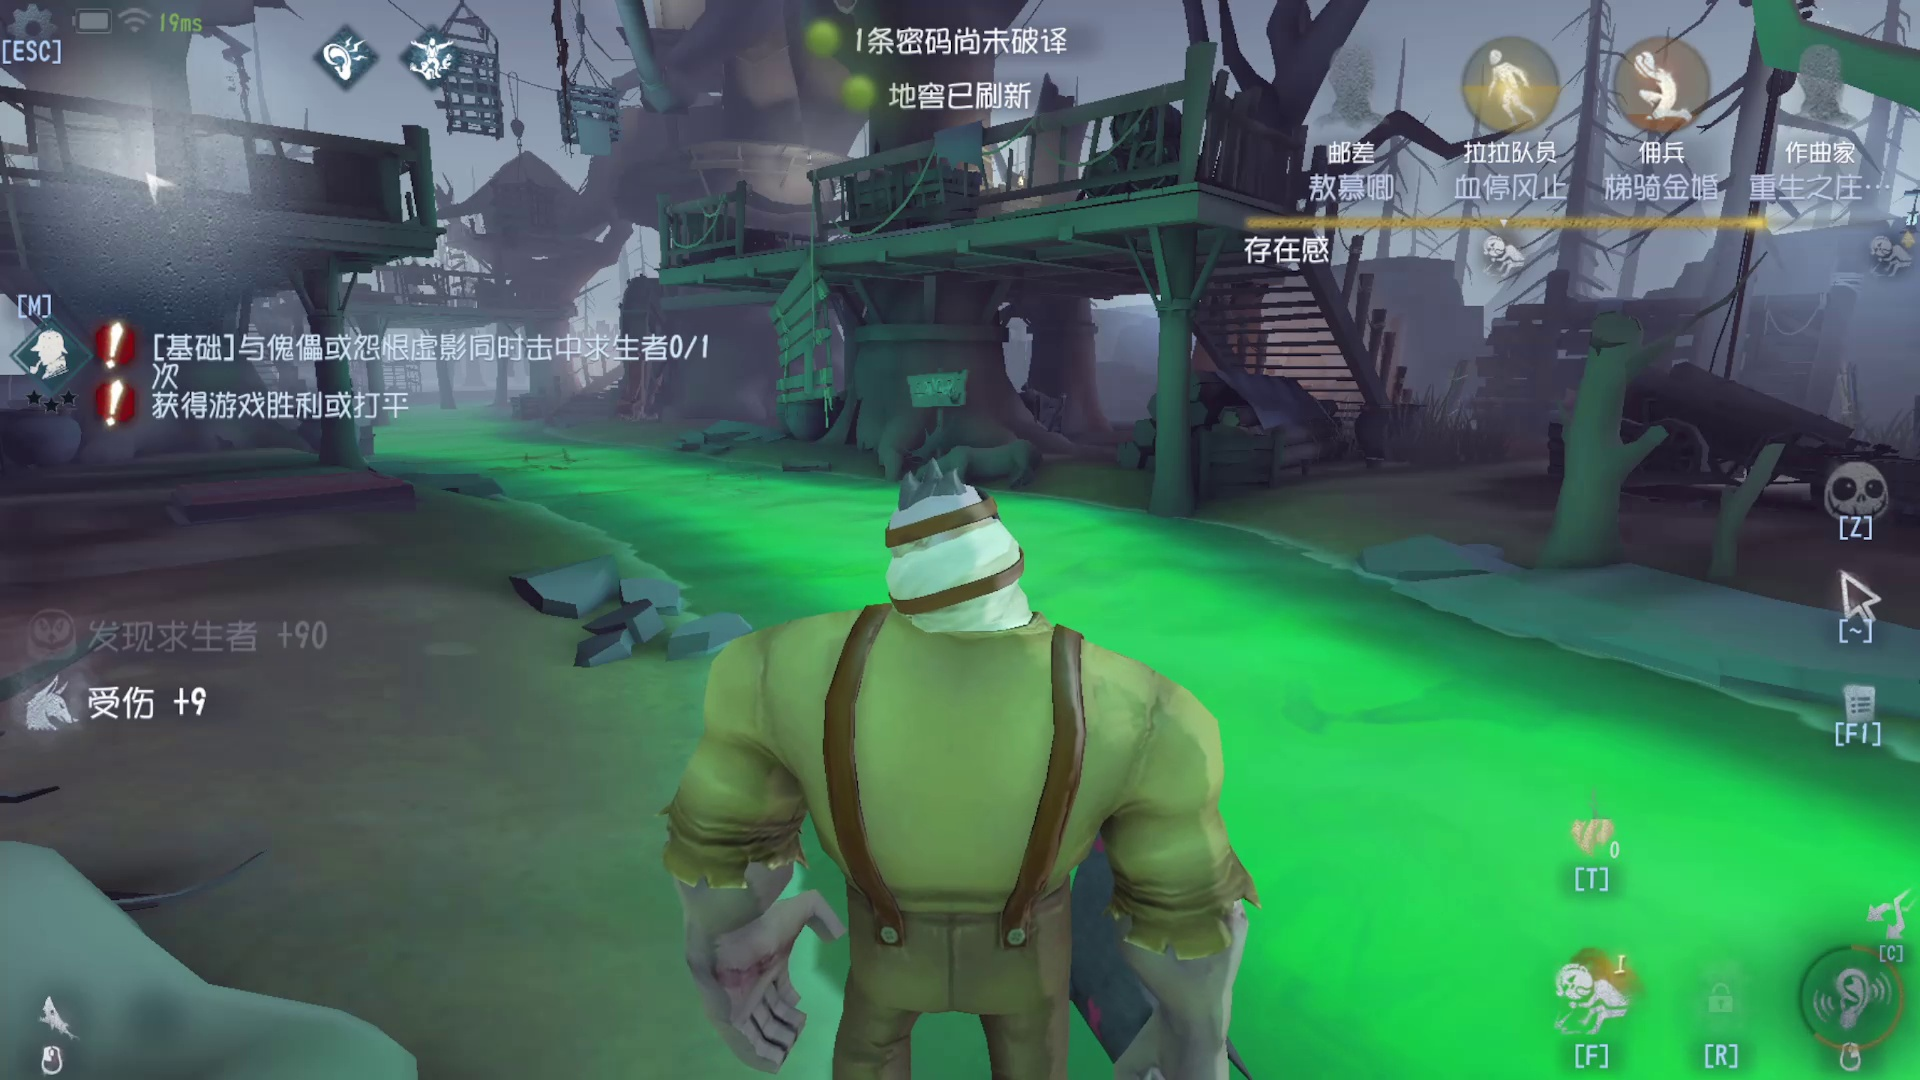脚印: (473, 415, 599, 492)
